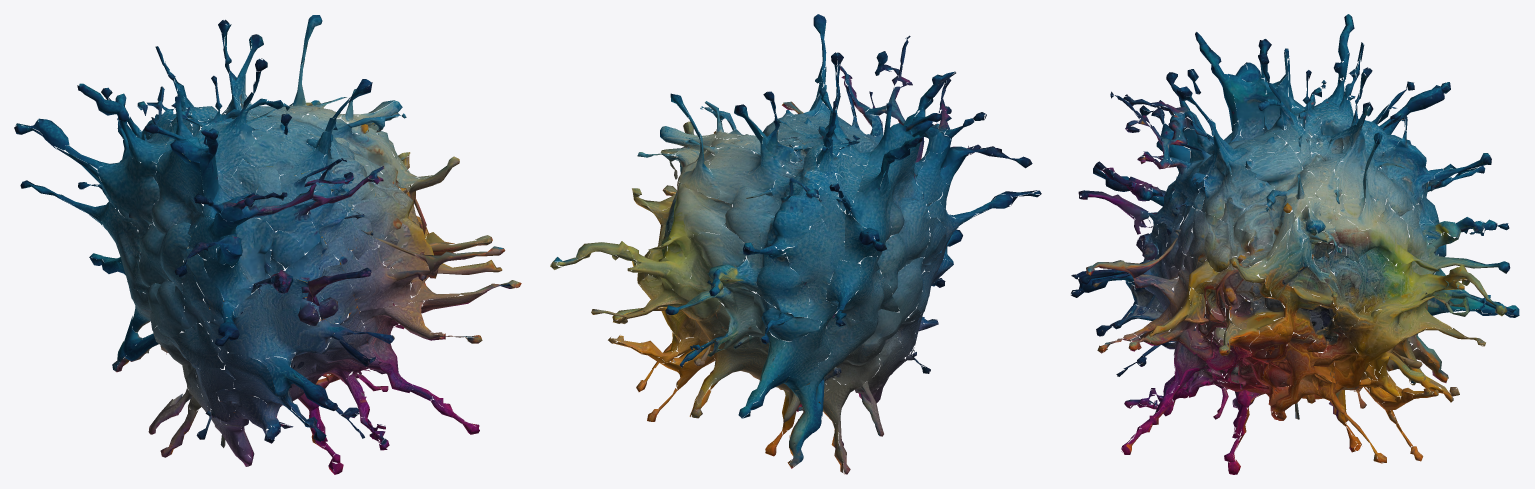
File: paint-splash-decimated.glb
The picture shows the model from 3 angles, left to right: view 1: azimuth 30°, elevation 25°; view 2: azimuth 150°, elevation 25°; view 3: azimuth 270°, elevation 25°; orthographic projection. The views are drawn at different scales.
Parts seen in each view (by area): view 1: PaintSplash_Decimated; view 2: PaintSplash_Decimated; view 3: PaintSplash_Decimated.
Boxes of the visible parts, x1,y1,x2,y2 form: PaintSplash_Decimated: (14, 15, 521, 474); PaintSplash_Decimated: (550, 14, 1041, 474); PaintSplash_Decimated: (1071, 14, 1519, 474).
Size of the model in its own units: 0.8694 by 0.969 by 1.
1 material, 1 textured.
